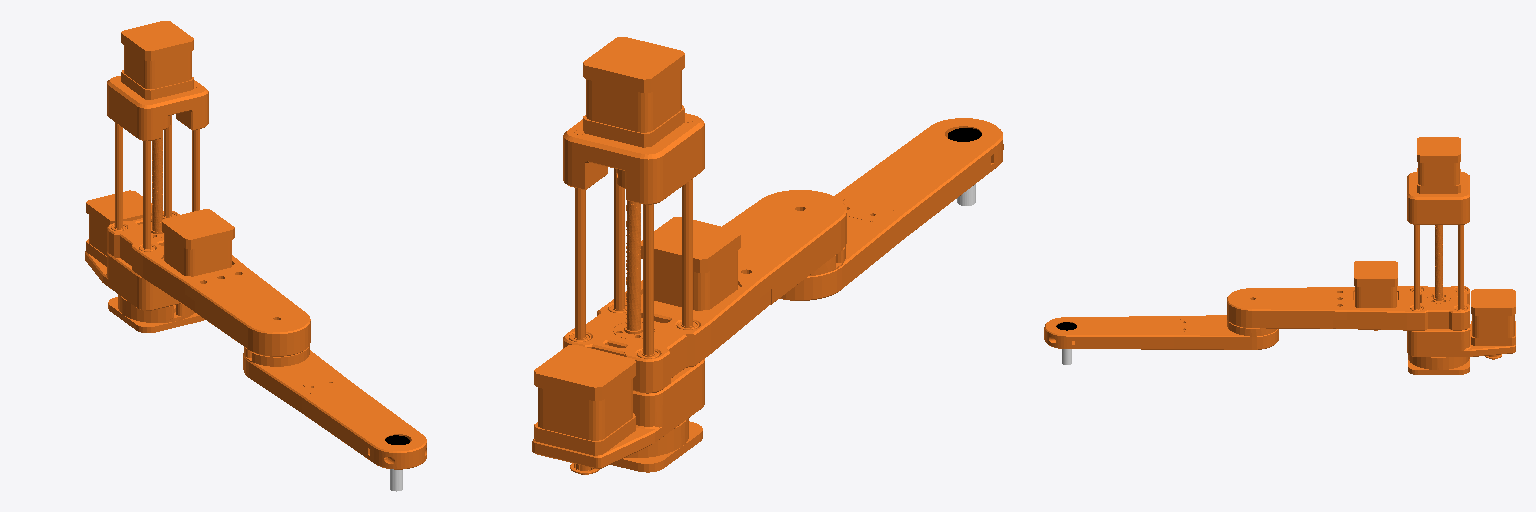
robot.urdf — scara_with_gripper:
<?xml version="1.0" encoding="utf-8"?>
<!-- This URDF was automatically created by SolidWorks to URDF Exporter! Originally created by Stephen Brawner (brawner@gmail.com) 
     Commit Version: 1.6.0-4-g7f85cfe  Build Version: 1.6.7995.38578
     For more information, please see http://wiki.ros.org/sw_urdf_exporter -->
<robot name="scara_with_gripper">

  <!-- SCARA Base Link -->
  <link name="base_link">
    <inertial>
      <origin xyz="-2.33602825269394E-08 0.000325855492130904 0.00700152226621419" rpy="0 0 0" />
      <mass value="0.0402568517427835" />
      <inertia
        ixx="1.16860689250314E-05"
        ixy="-1.8570220883558E-11"
        ixz="5.64103689843095E-12"
        iyy="1.1993754297666E-05"
        iyz="-7.8687526683924E-08"
        izz="2.18256266420959E-05" />
    </inertial>
    <visual>
      <origin xyz="0 0 0" rpy="0 0 0" />
      <geometry>
        <mesh filename="package://scara/meshes/base_link.STL" />
      </geometry>
      <material name="">
        <color rgba="1 0.533333333333333 0.176470588235294 1" />
      </material>
    </visual>
    <collision>
      <origin xyz="0 0 0" rpy="0 0 0" />
      <geometry>
        <mesh filename="package://scara/meshes/base_link.STL" />
      </geometry>
    </collision>
  </link>

  <!-- SCARA Link1 -->
  <link name="Link1">
    <inertial>
      <origin xyz="-5.82317828406263E-05 0.0125670372099185 0.106258424386727" rpy="0 0 0" />
      <mass value="0.326072004656768" />
      <inertia
        ixx="0.000175710230688168"
        ixy="1.48740556515632E-09"
        ixz="-1.85135692980239E-07"
        iyy="0.000155118181724295"
        iyz="5.77187163494193E-06"
        izz="0.000168999196132045" />
    </inertial>
    <visual>
      <origin xyz="0 0 0" rpy="0 0 0" />
      <geometry>
        <mesh filename="package://scara/meshes/Link1.STL" />
      </geometry>
      <material name="">
        <color rgba="1 0.533333333333333 0.176470588235294 1" />
      </material>
    </visual>
    <collision>
      <origin xyz="0 0 0" rpy="0 0 0" />
      <geometry>
        <mesh filename="package://scara/meshes/Link1.STL" />
      </geometry>
    </collision>
  </link>

  <joint name="joint1" type="revolute">
    <origin xyz="0 0 0" rpy="0 0 0" />
    <parent link="base_link" />
    <child link="Link1" />
    <axis xyz="0 0 1" />
    <limit lower="-1.57" upper="1.57" effort="0" velocity="0" />
  </joint>

  <!-- SCARA Link2 -->
  <link name="Link2">
    <inertial>
      <origin xyz="0.0757980106992246 -2.08571677094531E-06 -0.0051586157715495" rpy="0 0 0" />
      <mass value="0.269351505596376" />
      <inertia
        ixx="7.65002539967446E-05"
        ixy="-2.60368605877457E-09"
        ixz="3.17859629830699E-06"
        iyy="0.000236767952686508"
        iyz="2.56350182000798E-09"
        izz="0.000281158978903039" />
    </inertial>
    <visual>
      <origin xyz="0 0 0" rpy="0 0 0" />
      <geometry>
        <mesh filename="package://scara/meshes/Link2.STL" />
      </geometry>
      <material name="">
        <color rgba="1 0.533333333333333 0.176470588235294 1" />
      </material>
    </visual>
    <collision>
      <origin xyz="0 0 0" rpy="0 0 0" />
      <geometry>
        <mesh filename="package://scara/meshes/Link2.STL" />
      </geometry>
    </collision>
  </link>

  <joint name="joint2" type="prismatic">
    <origin xyz="0 0 0.0664" rpy="0 0 -1.5708" />
    <parent link="Link1" />
    <child link="Link2" />
    <axis xyz="0 0 1" />
    <limit lower="0.00" upper="0.091" effort="50" velocity="1" />
  </joint>

  <!-- SCARA Link3 -->
  <link name="Link3">
    <inertial>
      <origin xyz="0.0714052178204697 0.000746521706669515 -0.0279252348818434" rpy="0 0 0" />
      <mass value="0.155288189008471" />
      <inertia
        ixx="3.10970726600027E-05"
        ixy="-7.56646280633992E-07"
        ixz="5.77430535141398E-06"
        iyy="0.000121028450793099"
        iyz="-2.31665870998517E-09"
        izz="0.00014171550680783" />
    </inertial>
    <visual>
      <origin xyz="0 0 0" rpy="0 0 0" />
      <geometry>
        <mesh filename="package://scara/meshes/Link3.STL" />
      </geometry>
      <material name="">
        <color rgba="1 0.533333333333333 0.176470588235294 1" />
      </material>
    </visual>
    <collision>
      <origin xyz="0 0 0" rpy="0 0 0" />
      <geometry>
        <mesh filename="package://scara/meshes/Link3.STL" />
      </geometry>
    </collision>
  </link>

  <joint name="joint3" type="revolute">
    <origin xyz="0.177 0 -0.0061" rpy="0 0 0" />
    <parent link="Link2" />
    <child link="Link3" />
    <axis xyz="0 0 -1" />
    <limit lower="-2.8" upper="0" effort="0" velocity="0" />
  </joint>


  <joint name="scara_to_gripper_joint" type="fixed">
    <origin rpy="3.14 0 0" xyz="0.177 0 -0.03"/>
    <parent link="Link3"/>
    <child link="virtual_hand"/>
    <axis xyz="0 0 -1" />
    <limit lower="-3.14" upper="3.14" effort="0" velocity="0" />
  </joint>

  <!-- virtual Gripper Hand -->
  <link name="virtual_hand">
    <inertial>
      <origin rpy="0 0 0" xyz="-0.01 0 0.03"/>
      <mass value="0.73"/>
      <inertia ixx="0.001" ixy="0" ixz="0" iyy="0.0025" iyz="0" izz="0.0017"/>
    </inertial>
  </link>
  

  <link name="virtual_finger1">
    <collision>
      <origin rpy="0 0 0" xyz="8e-3 0 9e-3"/>
      <geometry>
        <box size="5e-3 10e-3 10e-3"/>
      </geometry>
    </collision>
    <inertial>
      <origin rpy="0 0 0" xyz="0 0 0"/>
      <mass value="0.015"/>
      <inertia ixx="2.3749999999999997e-06" ixy="0" ixz="0" iyy="2.3749999999999997e-06" iyz="0" izz="7.5e-07"/>
    </inertial>
  </link>

  <link name="virtual_finger2">
    <collision>
      <origin rpy="0 0 0" xyz="-8e-3 0 9e-3"/>
      <geometry>
        <box size="5e-3 10e-3 10e-3"/>
      </geometry>
    </collision>
    <inertial>
      <origin rpy="0 0 0" xyz="0 0 0"/>
      <mass value="0.015"/>
      <inertia ixx="2.3749999999999997e-06" ixy="0" ixz="0" iyy="2.3749999999999997e-06" iyz="0" izz="7.5e-07"/>
    </inertial>
  </link>

  <link name="virtual_finger3">
    <!-- screw mount -->
    <collision>
      <origin rpy="0 0 0" xyz="0 8e-3 9e-3"/>
      <geometry>
        <box size="10e-3 5e-3 10e-3"/>
      </geometry>
    </collision>
    <!-- cartriage sledge -->
    <inertial>
      <origin rpy="0 0 0" xyz="0 0 0"/>
      <mass value="0.015"/>
      <inertia ixx="2.3749999999999997e-06" ixy="0" ixz="0" iyy="2.3749999999999997e-06" iyz="0" izz="7.5e-07"/>
    </inertial>
  </link>

  <link name="virtual_finger4">
    <!-- screw mount -->
    <collision>
      <origin rpy="0 0 0" xyz="0 -8e-3 9e-3"/>
      <geometry>
        <box size="10e-3 5e-3 10e-3"/>
      </geometry>
    </collision>
    <inertial>
      <origin rpy="0 0 0" xyz="0 0 0"/>
      <mass value="0.015"/>
      <inertia ixx="2.3749999999999997e-06" ixy="0" ixz="0" iyy="2.3749999999999997e-06" iyz="0" izz="7.5e-07"/>
    </inertial>
  </link>

  <!-- Finger Joints -->
  <joint name="virtual_finger1_joint" type="prismatic">
    <parent link="virtual_hand"/>
    <child link="virtual_finger1"/>
    <origin rpy="0 0 0" xyz="0 0 0.0249"/>
    <axis xyz="1 0 0"/>
    <limit effort="100" lower="0.0" upper="0.02" velocity="0.2"/>
    <dynamics damping="0.3"/>
  </joint>

  <joint name="virtual_finger2_joint" type="prismatic">
    <parent link="virtual_hand"/>
    <child link="virtual_finger2"/>
    <origin rpy="0 0 0" xyz="0 0 0.0249"/>
    <axis xyz="-1 0 0"/>
    <limit effort="100" lower="0.0" upper="0.02" velocity="0.2"/>
    <dynamics damping="0.3"/>
    <mimic joint="virtual_finger1_joint"/>
  </joint>

  <joint name="virtual_finger3_joint" type="prismatic">
    <parent link="virtual_hand"/>
    <child link="virtual_finger3"/>
    <origin rpy="0 0 0" xyz="0 0 0.0249"/>
    <axis xyz="0 1 0"/>
    <limit effort="100" lower="0.0" upper="0.02" velocity="0.2"/>
    <dynamics damping="0.3"/>
    <mimic joint="virtual_finger1_joint"/>
  </joint>

  <joint name="virtual_finger4_joint" type="prismatic">
    <parent link="virtual_hand"/>
    <child link="virtual_finger4"/>
    <origin rpy="0 0 0" xyz="0 0 0.0249"/>
    <axis xyz="0 -1 0"/>
    <limit effort="100" lower="0.0" upper="0.02" velocity="0.2"/>
    <dynamics damping="0.3"/>
    <mimic joint="virtual_finger1_joint"/>
  </joint>

  <joint name="black_cylinder_joint" type="fixed">
    <origin xyz="0.177 0 -0.03" rpy="0 0 0" />
    <parent link="Link3" />
    <child link="black_cylinder" />
  </joint>
  <link name="black_cylinder">
    <visual>
      <origin xyz="0 0 0" rpy="0 0 0" />
      <geometry>
        <cylinder length="0.015" radius="0.01" />
      </geometry>
      <material name="black_material">
        <color rgba="0 0 0 1" />
      </material>
    </visual>
    <collision>
      <origin xyz="0 0 0" rpy="0 0 0" />
      <geometry>
        <cylinder length="0.015" radius="0.01" />
      </geometry>
    </collision>
    <inertial>
      <origin xyz="0 0 0" rpy="0 0 0" />
      <mass value="0.1" />
      <inertia
        ixx="0.0001"
        ixy="0"
        ixz="0"
        iyy="0.0001"
        iyz="0"
        izz="0.00005" />
    </inertial>
  </link>
  <!-- 白色圆柱体 - 连接到黑色圆柱体底部 -->
  <link name="white_cylinder">
    <visual>
      <origin xyz="0 0 0" rpy="0 0 0" />
      <geometry>
        <cylinder length="0.024" radius="0.005" />
      </geometry>
      <material name="white_material">
        <color rgba="1 1 1 1" />
      </material>
    </visual>
    <collision>
      <origin xyz="0 0 0" rpy="0 0 0" />
      <geometry>
        <cylinder length="0.024" radius="0.005" />
      </geometry>
    </collision>
    <inertial>
      <origin xyz="0 0 0" rpy="0 0 0" />
      <mass value="0.15" />
      <inertia
        ixx="0.0002"
        ixy="0"
        ixz="0"
        iyy="0.0002"
        iyz="0"
        izz="0.0001" />
    </inertial>
  </link>

  <joint name="white_cylinder_joint" type="fixed">
    <origin xyz="0 0 -0.0195" rpy="0 0 0" />
    <parent link="black_cylinder" />
    <child link="white_cylinder" />
  </joint>

   <link name="scara_tcp"/>
  <joint name="scara_tcp_joint" type="fixed">
    <origin rpy="3.1416 0 1.5708" xyz="0 0 -0.0145"/>
    <parent link="white_cylinder"/>
    <child link="scara_tcp"/>
  </joint>
</robot>

--- Facts derived from the render (not from the file) ---
3 views of the same robot in one strip: view 1: azimuth 30°, elevation 25°; view 2: azimuth 150°, elevation 25°; view 3: azimuth 270°, elevation 25° (orthographic).
Robot: scara_with_gripper — 12 links, 11 joints (2 revolute, 5 prismatic, 4 fixed); root link base_link; default pose: every joint at zero.
Visible links, largest first — view 1: Link1, Link2, Link3, base_link; view 2: Link1, Link2, Link3, base_link; view 3: Link1, Link2, Link3, base_link.
Link boxes in pixels (<box>): Link1: <box>85,21,208,310</box>; Link2: <box>107,209,310,356</box>; Link3: <box>243,346,426,469</box>; base_link: <box>108,294,204,332</box>; Link1: <box>532,37,704,474</box>; Link2: <box>563,190,846,393</box>; Link3: <box>779,118,1003,300</box>; base_link: <box>610,418,702,472</box>; Link1: <box>1407,137,1515,359</box>; Link2: <box>1227,261,1469,330</box>; Link3: <box>1044,315,1278,349</box>; base_link: <box>1408,355,1469,374</box>.
Size in the robot's own frame: 0.06 by 0.4483 by 0.2276 metres.
Meshes: 4 distinct files referenced, 4 mesh visuals loaded (4 binary STL).
